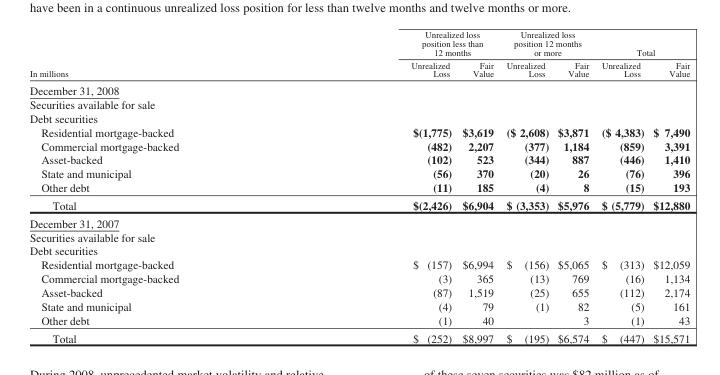table: (29, 29, 689, 343)
table column: (29, 29, 294, 343), (294, 29, 456, 343), (594, 29, 648, 343), (499, 29, 552, 343), (456, 29, 499, 343), (552, 29, 594, 343), (648, 29, 689, 343)
table column header: (29, 29, 689, 81)
table projected row header: (29, 81, 689, 97), (29, 213, 689, 229), (29, 97, 689, 111), (29, 229, 689, 243), (29, 243, 689, 257), (29, 111, 689, 124)
table row: (29, 29, 689, 58), (29, 58, 689, 81), (29, 196, 689, 213), (29, 81, 689, 97), (29, 180, 689, 196), (29, 213, 689, 229), (29, 313, 689, 328), (29, 328, 689, 343), (29, 97, 689, 111), (29, 124, 689, 138), (29, 138, 689, 152), (29, 152, 689, 166), (29, 166, 689, 180), (29, 229, 689, 243), (29, 243, 689, 257), (29, 257, 689, 271), (29, 271, 689, 285), (29, 285, 689, 299), (29, 299, 689, 313), (29, 111, 689, 124)
table spanning cell: (29, 29, 294, 81), (294, 29, 499, 58), (499, 29, 594, 58), (594, 29, 689, 58)
